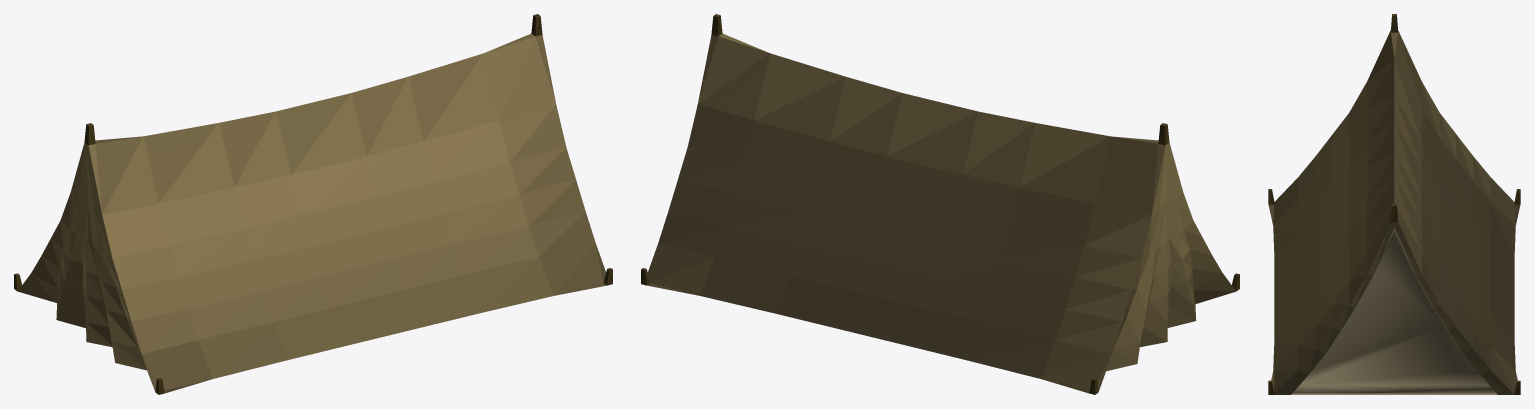
File: tent2.obj
The picture shows the model from 3 angles, left to right: view 1: azimuth 30°, elevation 25°; view 2: azimuth 150°, elevation 25°; view 3: azimuth 270°, elevation 25°; orthographic projection. The views are drawn at different scales.
Visible parts, largest first — view 1: Object_Tent_2022-04-28_18-00-11.obj.001; view 2: Object_Tent_2022-04-28_18-00-11.obj.001; view 3: Object_Tent_2022-04-28_18-00-11.obj.001.
Boxes of the visible parts, box(x1,y1,x2,y2) form: Object_Tent_2022-04-28_18-00-11.obj.001: box(14, 14, 612, 394); Object_Tent_2022-04-28_18-00-11.obj.001: box(641, 14, 1239, 394); Object_Tent_2022-04-28_18-00-11.obj.001: box(1268, 14, 1520, 394).
Bounding box in the file's own units: 384 × 175 × 212.
